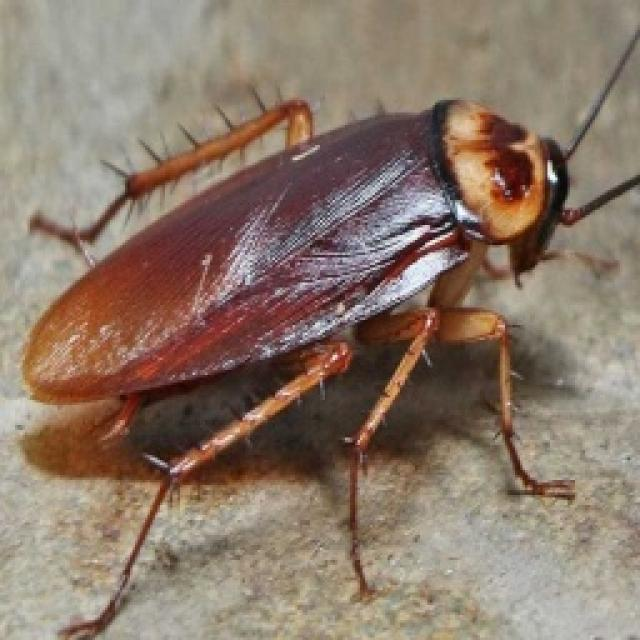cockroach: (19, 28, 637, 636)
